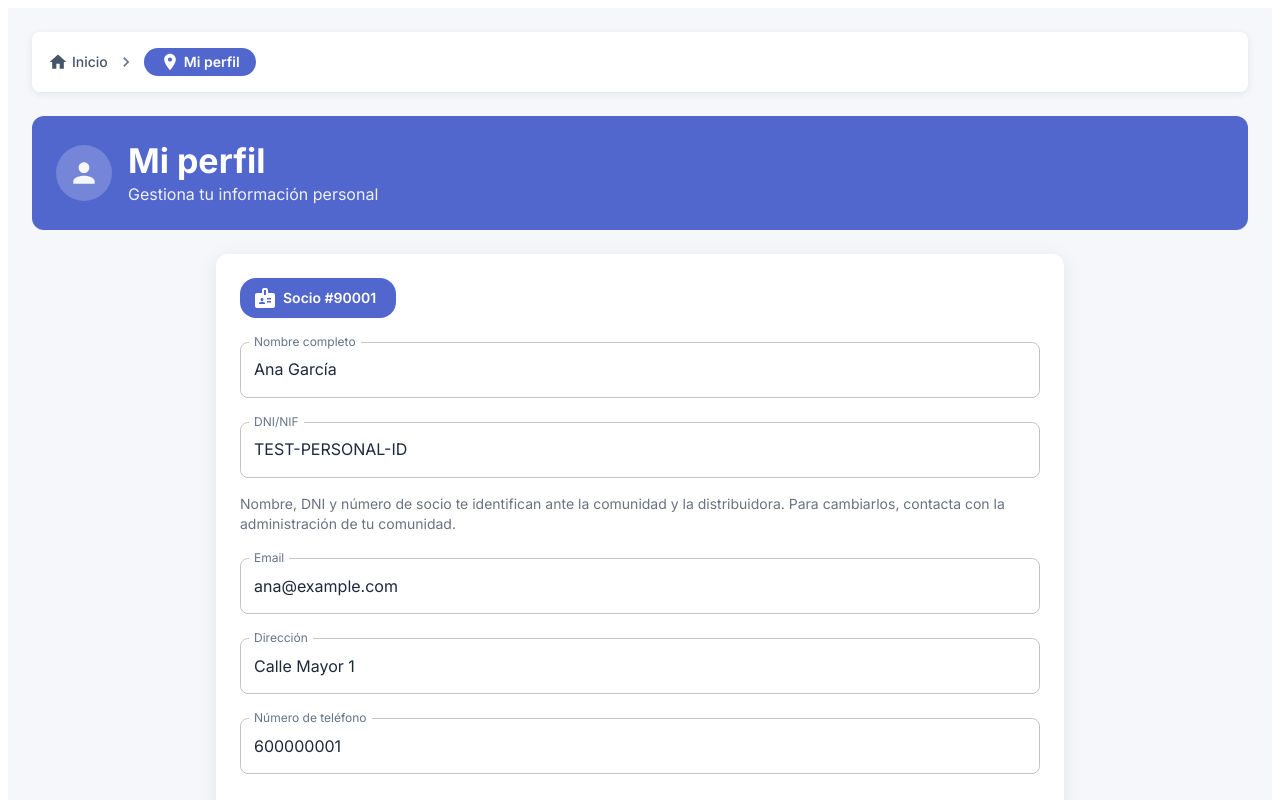
Test: ProfilePage optional email › UI-PRF-001 clears an existing email, so the profile shows none afterwards
Clear the field labelled "Email". click: (640, 586)
box: [240,558,1040,614]
(page scrolled)
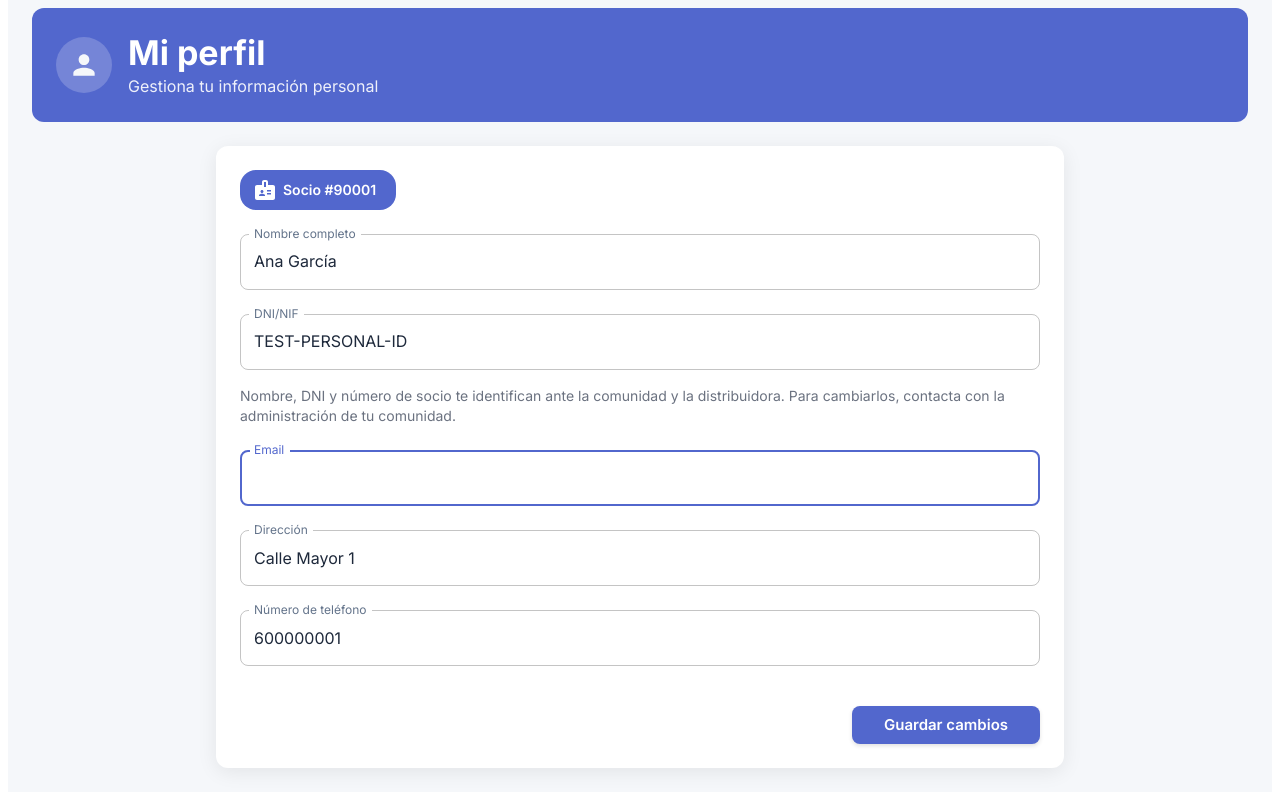
Click the button "Guardar cambios". click: (946, 725)
box: [852,706,1040,744]
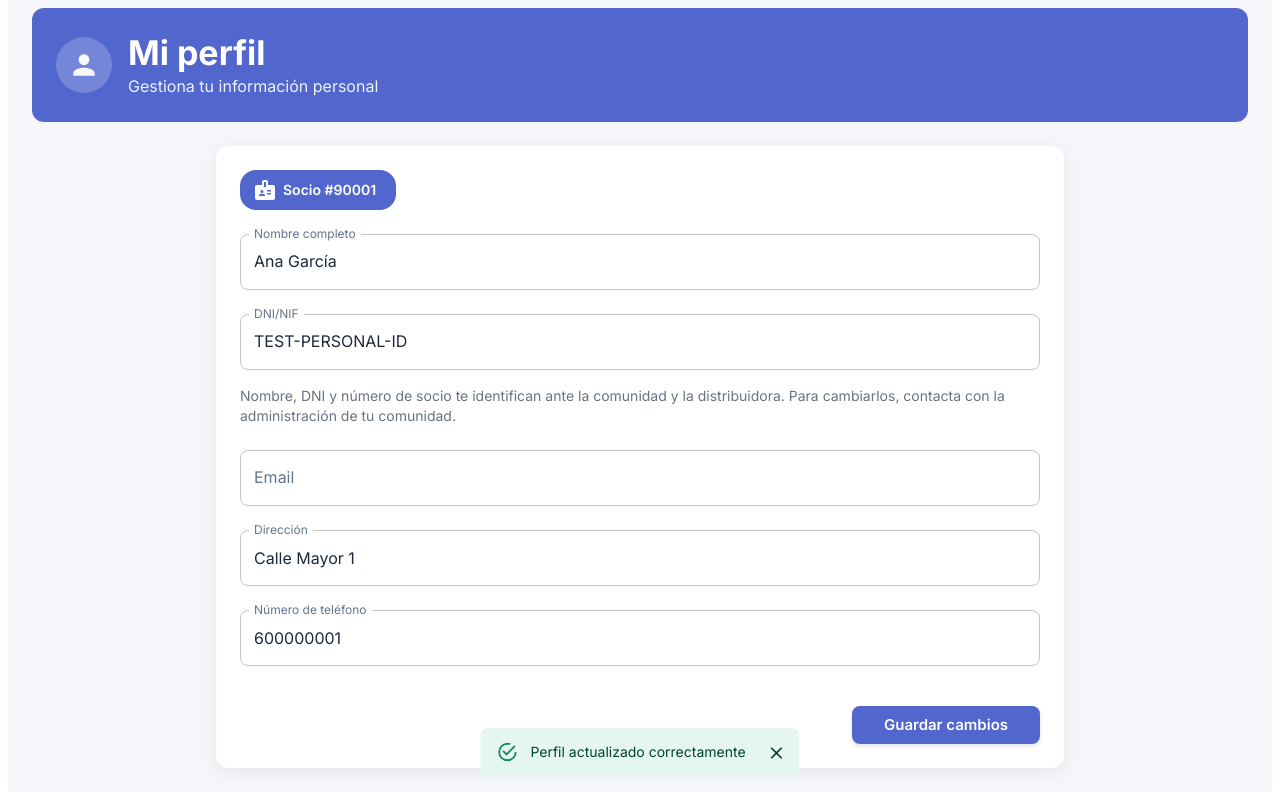
Check: the text "Perfil actualizado correctamente" is shown, box [530,743,746,760]
